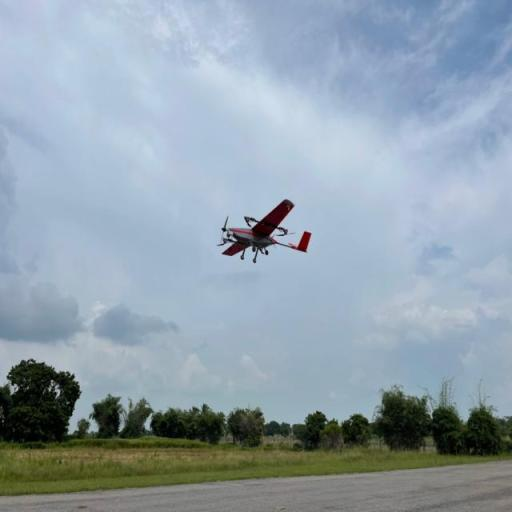uav: (200, 196, 316, 268)
